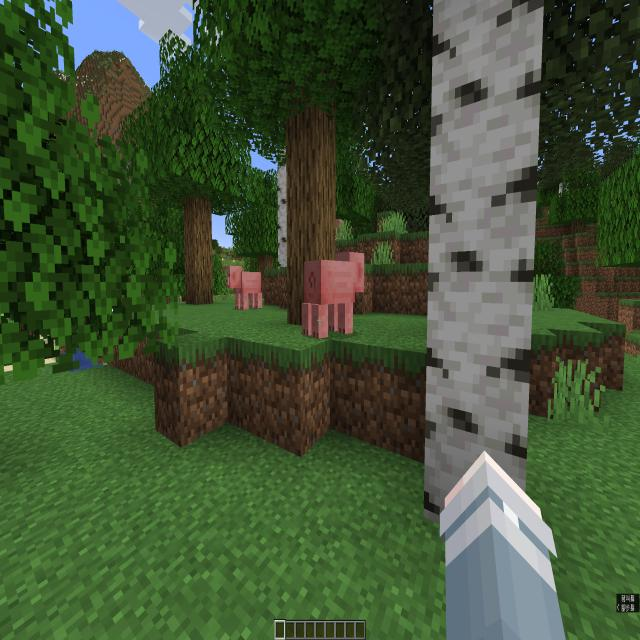pig: (294, 252, 369, 343), (225, 257, 269, 315)
